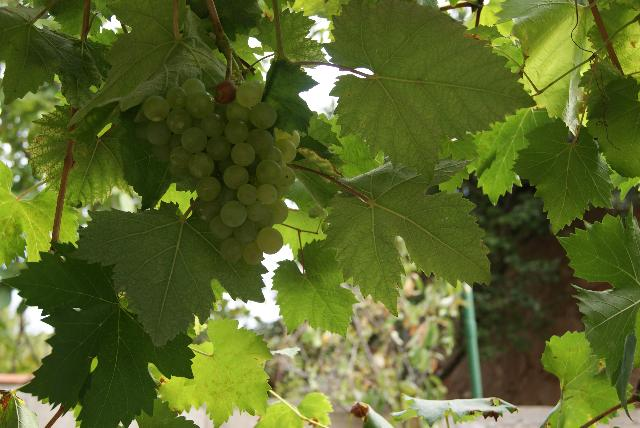grapes: (135, 79, 300, 265)
